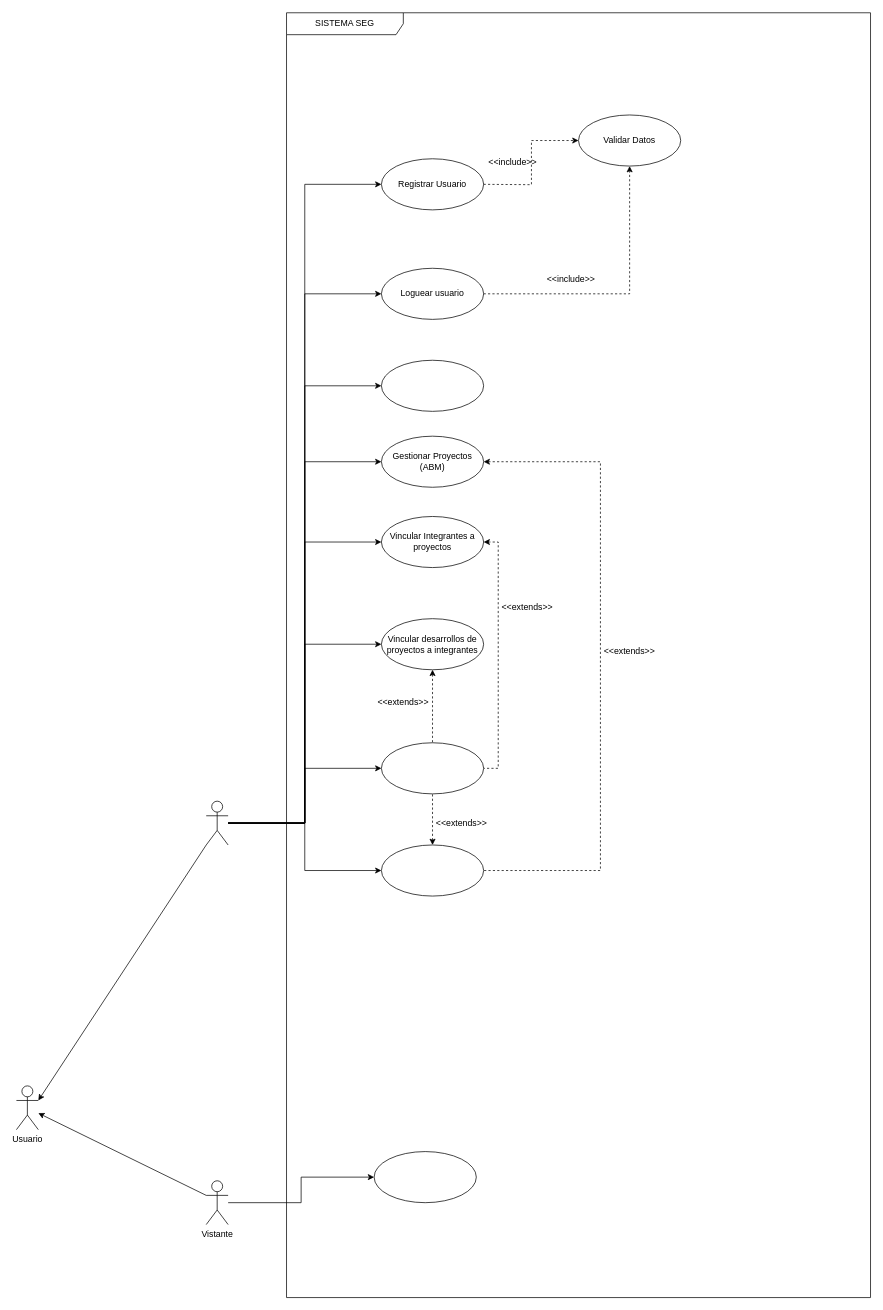
Image size: 883x1310. Some labels were removed from this diagram. The shapes that lost their labels are listed below. From the top down, each one's box as (x1, y1, x2, y2) in pixels, then its label:
(381, 360, 484, 411): Cargar tesis
(381, 742, 484, 794): Gestionar integrantes (ABM)
(205, 800, 228, 845): Admin
(381, 844, 484, 896): Gestionar reconocimientos
(373, 1151, 476, 1203): Visitar Sitio
